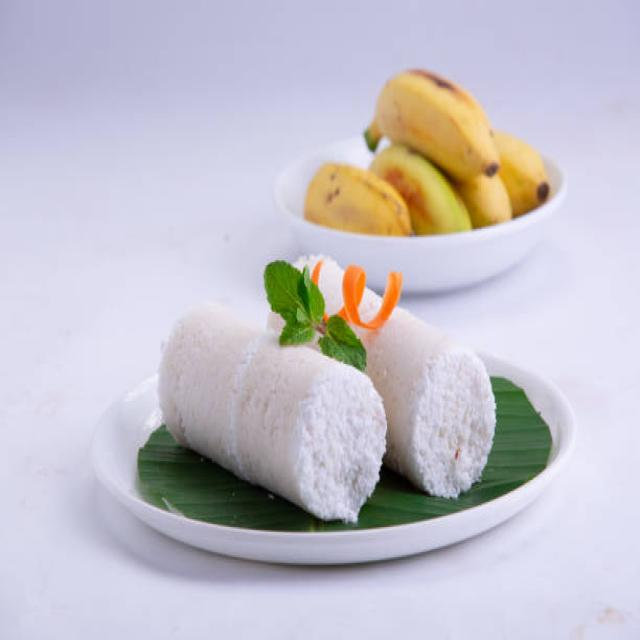BANANA: (303, 62, 554, 233)
PUTTU: (156, 252, 500, 526)
